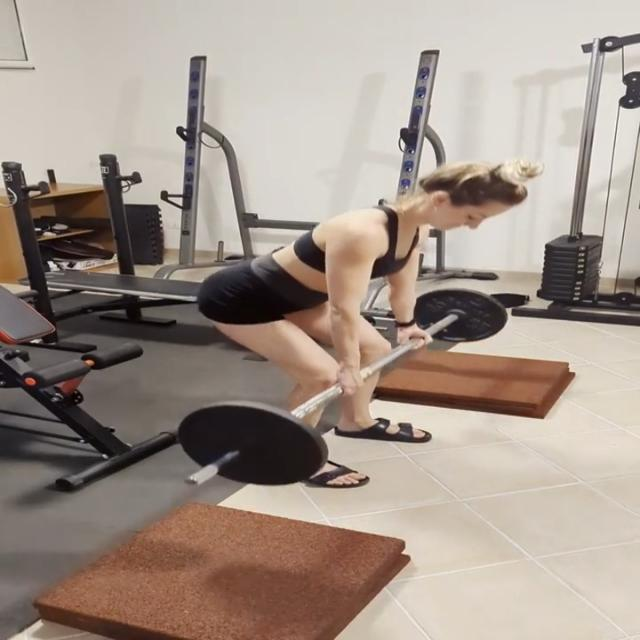barbell: (170, 400, 331, 495)
